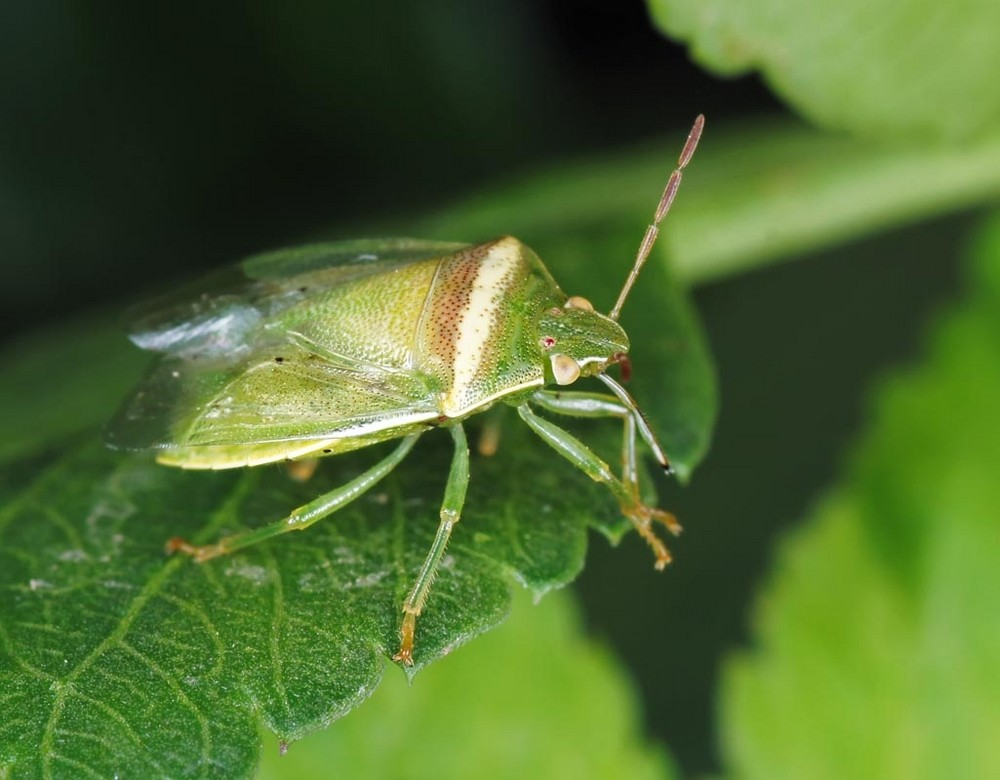chunchong: (116, 224, 684, 577)
